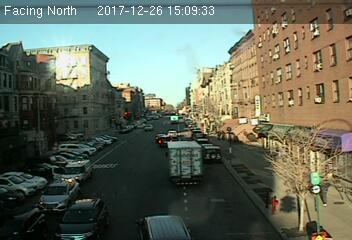car: (54, 197, 112, 240), (37, 180, 79, 212), (201, 144, 222, 164)
truck: (166, 141, 204, 184), (61, 160, 92, 181)
